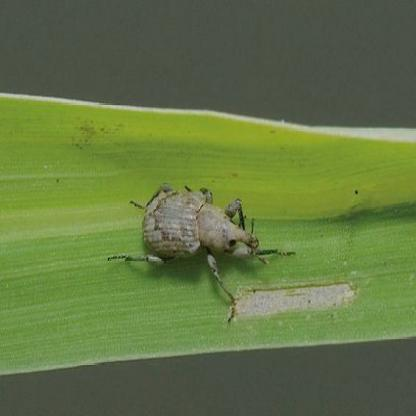rice-bug: (129, 178, 270, 296)
